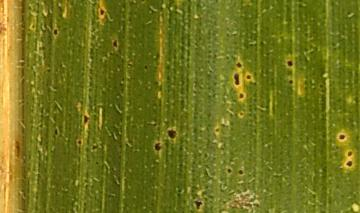tarspot: (164, 125, 180, 141), (192, 196, 206, 212), (150, 139, 163, 154), (231, 70, 242, 87), (81, 112, 92, 126), (337, 131, 348, 145), (96, 6, 107, 18), (111, 37, 120, 51), (237, 89, 246, 103), (73, 137, 85, 147), (50, 27, 62, 37), (242, 71, 254, 81), (51, 127, 61, 138), (88, 142, 100, 151), (345, 159, 355, 169), (285, 58, 295, 68), (224, 164, 233, 175), (233, 59, 244, 68), (237, 166, 245, 178), (345, 150, 355, 158), (287, 77, 295, 85)
